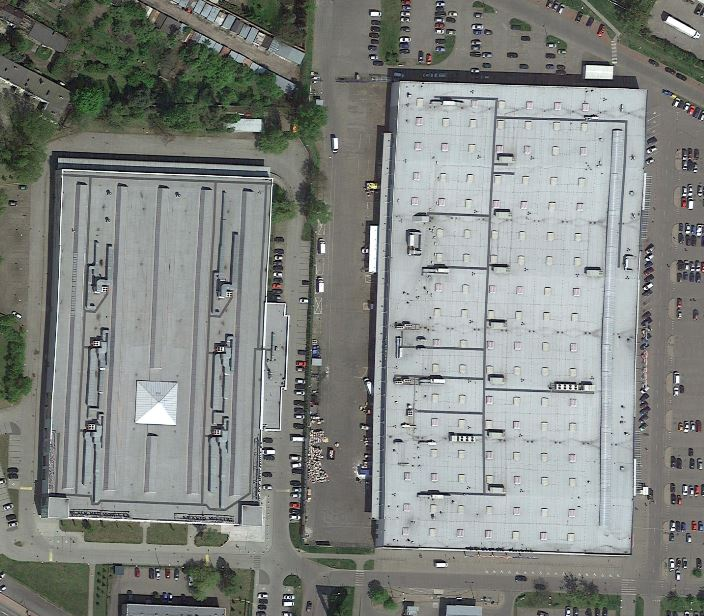shopping_center: (352, 71, 659, 566), (26, 135, 316, 533)
